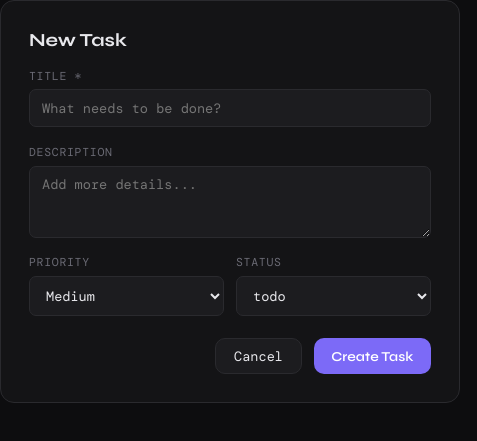
Scenario: TaskForm › clears title error when user starts typing
Submit the form with test id "task-form"
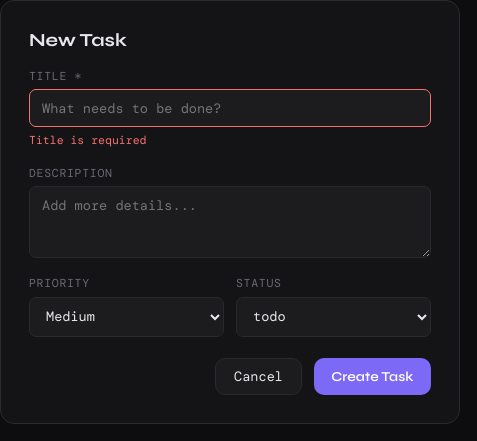
expect the message "Title is required" is shown: met, box [29, 133, 146, 148]
Type "a" into the field labelled "Title *" at (230, 108), box [29, 89, 431, 127]
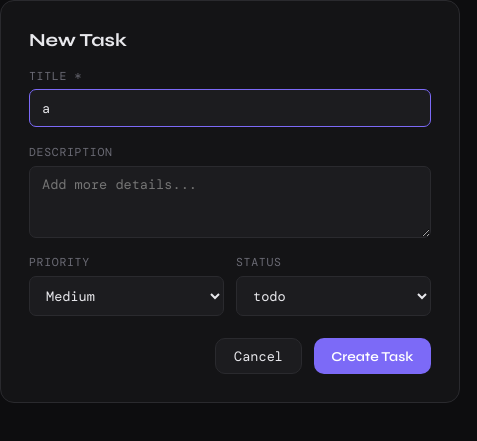
expect the message "Title is required" is gone: met
